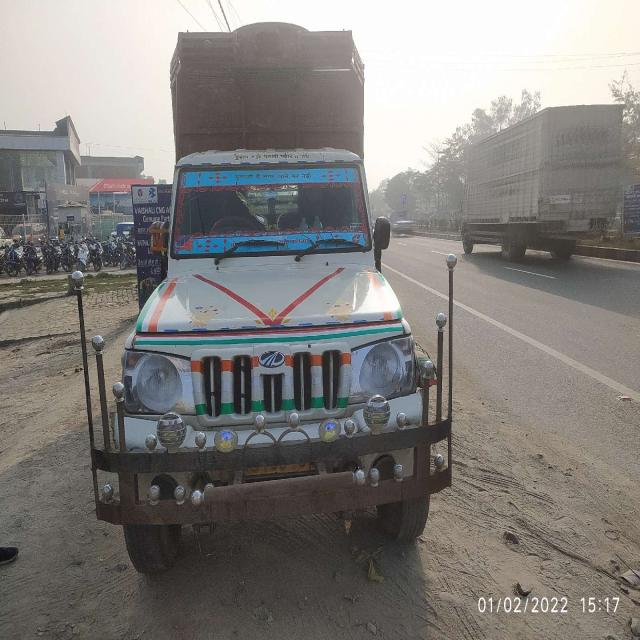light_vehicle: (108, 149, 434, 540)
